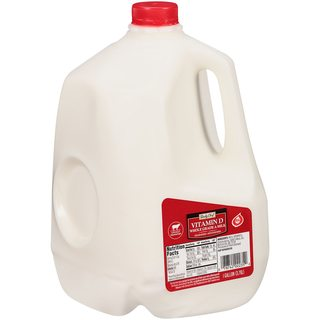milk: (52, 2, 271, 313)
